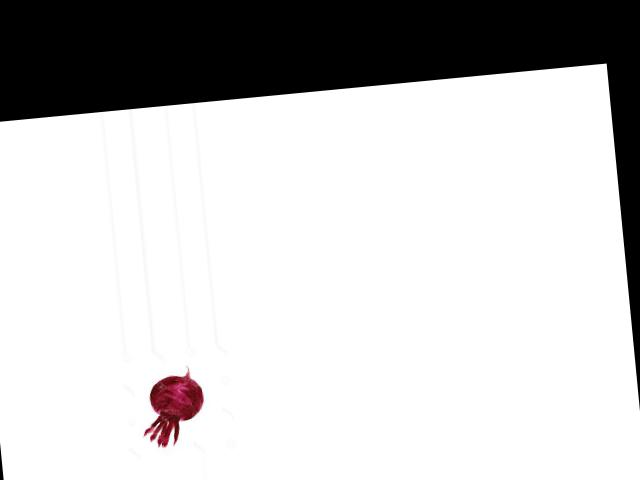beet: (137, 363, 208, 448)
